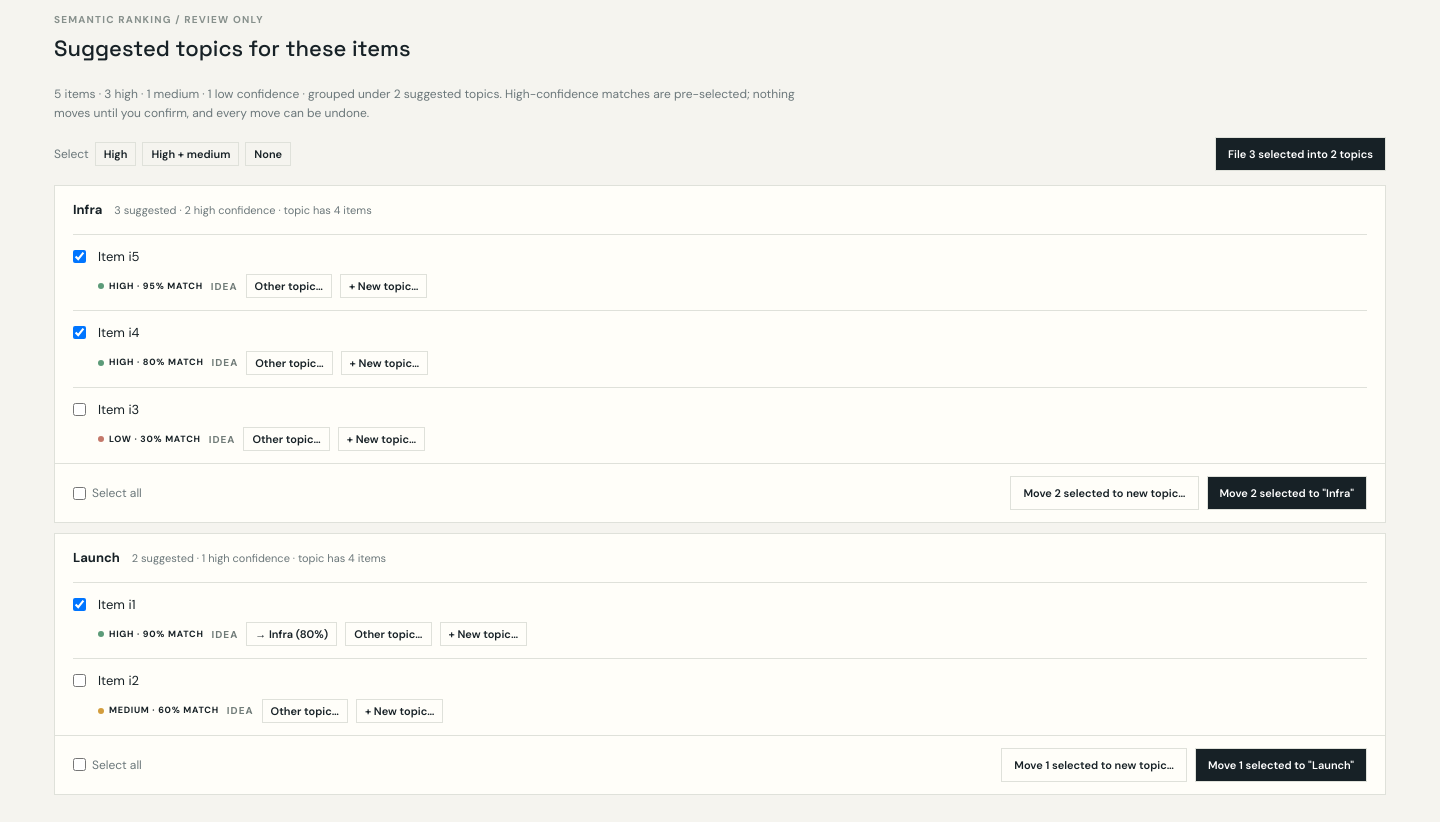
Test case: SuggestedItemTopics › brings back only the items that failed to move
The image size is (1440, 822).
Click the button "File 3 selected into 2 topics".
click(1301, 154)  # box [1215,137,1386,171]
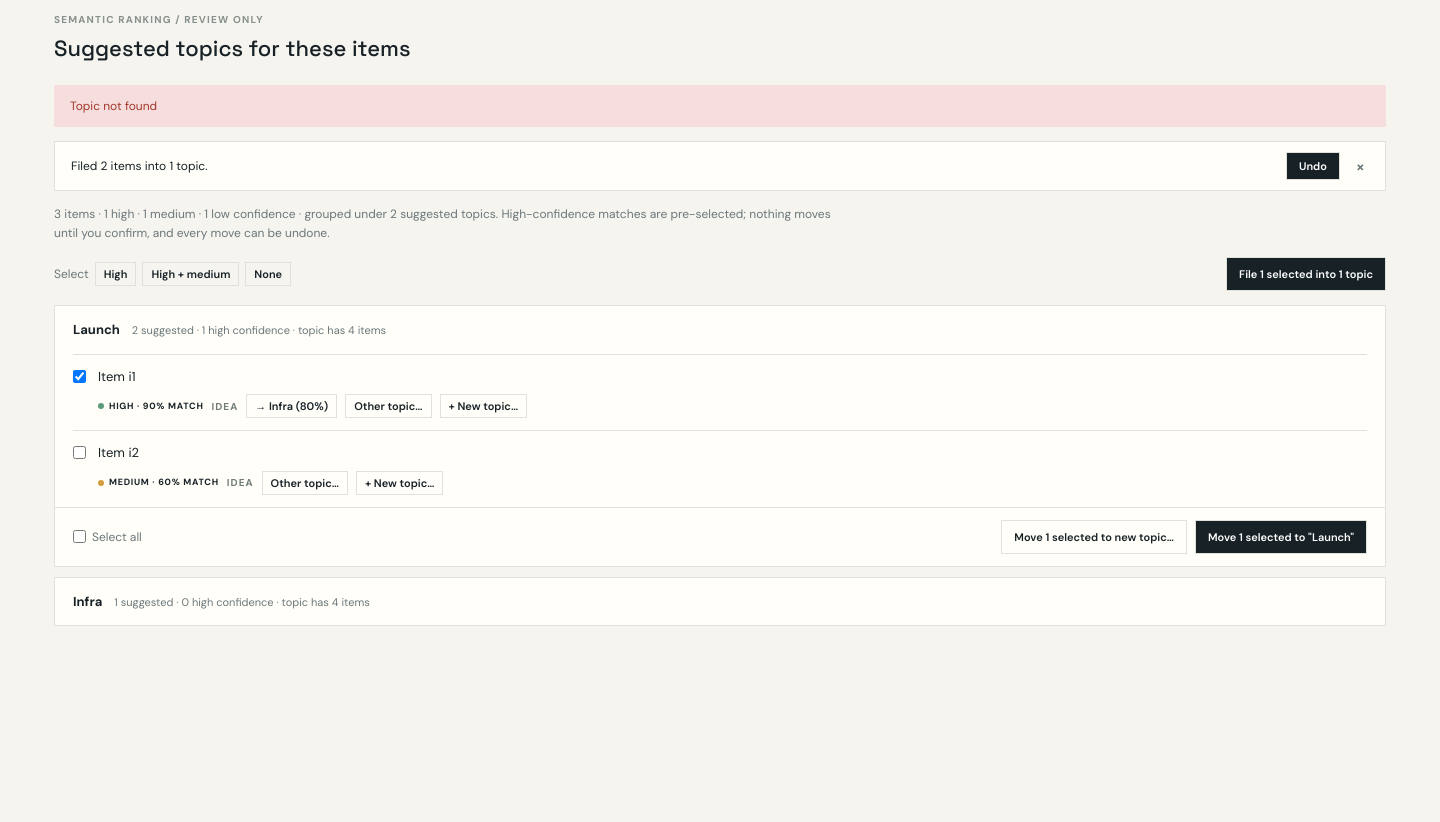
Now the text "Topic not found" is shown, box [54,85,1386,127]
Now the text "Item i5" is gone
Now the message shows "Filed 2 items into 1 topic.", box [54,141,1386,191]
